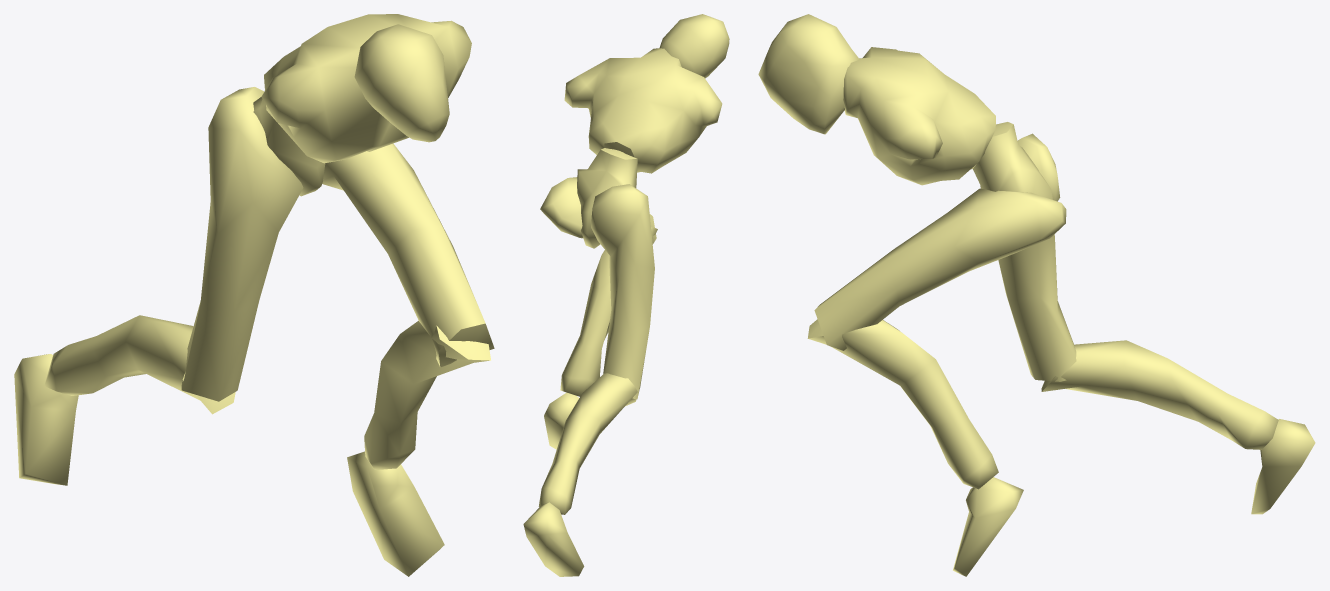
File: filth13.obj
The picture shows the model from 3 angles, left to right: view 1: azimuth 30°, elevation 25°; view 2: azimuth 150°, elevation 25°; view 3: azimuth 270°, elevation 25°; orthographic projection. The views are drawn at different scales.
Parts seen in each view (by area): view 1: Melee_Husk; view 2: Melee_Husk; view 3: Melee_Husk.
Boxes of the visible parts, bbox=[...] form: Melee_Husk: bbox=[14, 14, 494, 576]; Melee_Husk: bbox=[523, 14, 729, 576]; Melee_Husk: bbox=[758, 14, 1315, 576].
Size of the model in its own units: 22.08 by 58.04 by 56.61.
